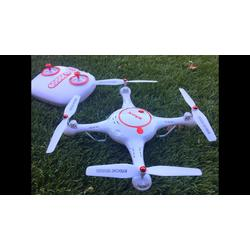drone: (48, 78, 218, 190)
